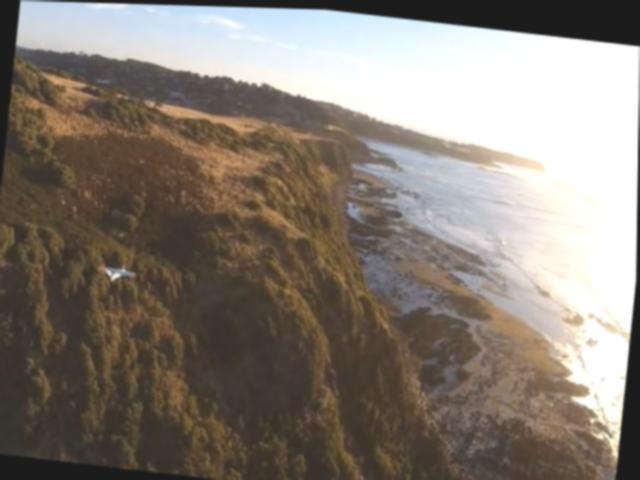uav: (95, 259, 144, 284)
